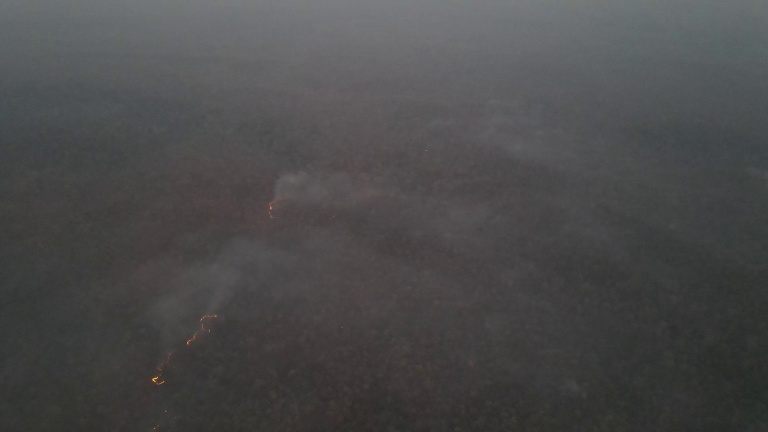fire: (186, 309, 227, 347), (145, 372, 171, 389), (262, 197, 280, 221)
smoke: (192, 241, 262, 308), (270, 173, 340, 207)
